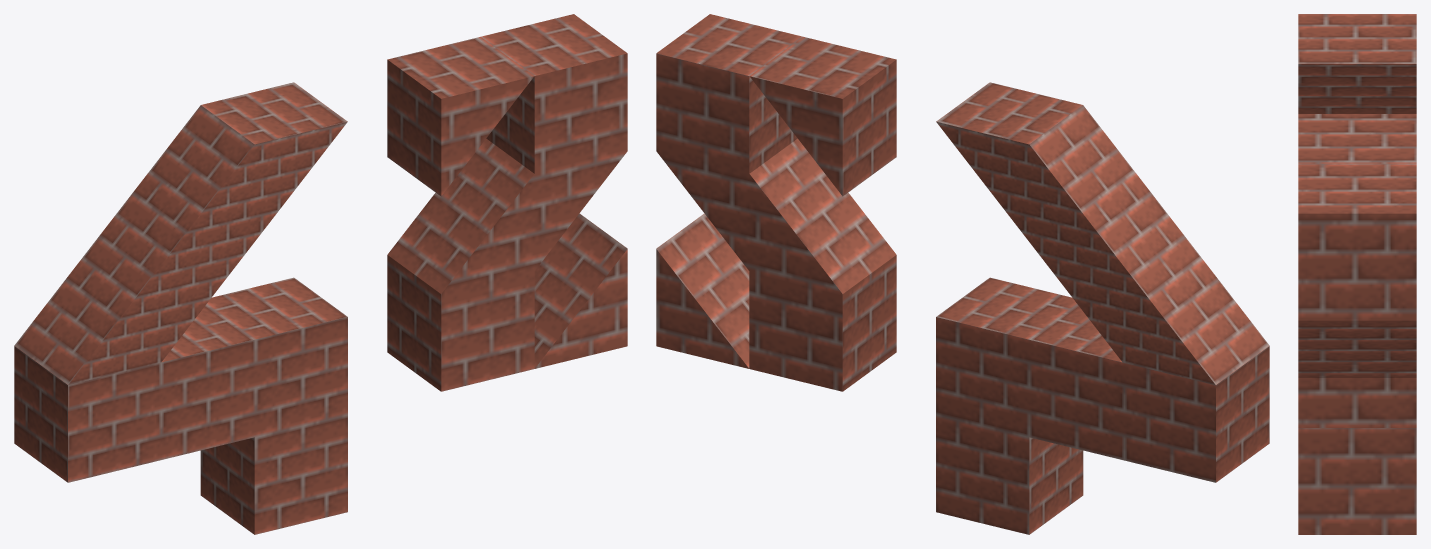
Rendered from fortytwo_img_wrong_extension.obj.
3 renders of one model, left to right at view 1: azimuth 30°, elevation 25°; view 2: azimuth 150°, elevation 25°; view 3: azimuth 270°, elevation 25°, orthographic. The views are drawn at different scales.
Visible parts, largest first — view 1: Cube, Cube.002; view 2: Cube, Cube.002; view 3: Cube.002, Cube.
Boxes of the visible parts, box(x1,y1,x2,y2) form: Cube: box(14, 82, 347, 534); Cube.002: box(387, 14, 627, 391); Cube: box(936, 82, 1269, 534); Cube.002: box(656, 14, 896, 391); Cube.002: box(1298, 114, 1416, 534); Cube: box(1298, 14, 1416, 113).
Size of the model in its own units: 6 by 4 by 1.
